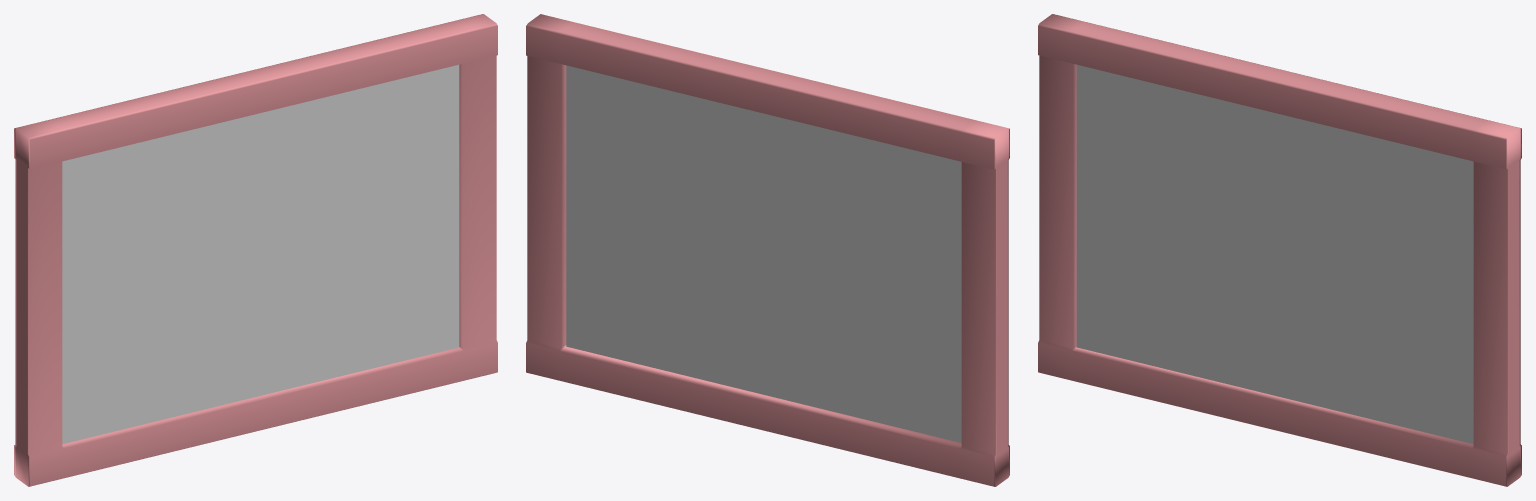
Rendered from pictureFrame.fbx.
3 renders of one model, left to right at view 1: azimuth 30°, elevation 25°; view 2: azimuth 150°, elevation 25°; view 3: azimuth 330°, elevation 25°, orthographic.
Parts seen in each view (by area): view 1: Picture, Cube; view 2: Picture, Cube; view 3: Picture, Cube.
Part boxes in pixels (bbox=[...]): Picture: bbox=[62, 64, 459, 444]; Cube: bbox=[14, 14, 497, 486]; Picture: bbox=[566, 65, 961, 442]; Cube: bbox=[526, 14, 1009, 486]; Picture: bbox=[1076, 64, 1473, 444]; Cube: bbox=[1038, 14, 1521, 486].
Size of the model in its own units: 283 by 202 by 16.55.
